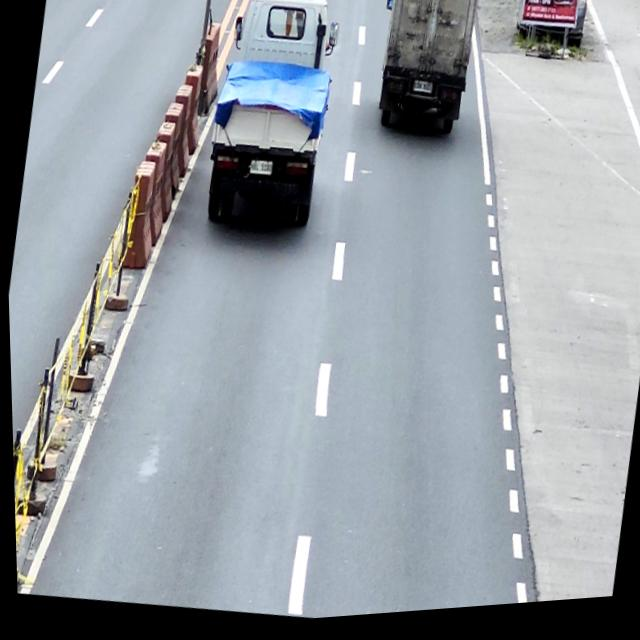License-Plate: (248, 163, 272, 182), (412, 85, 433, 101)
Truck: (194, 0, 350, 238), (366, 0, 483, 149)
